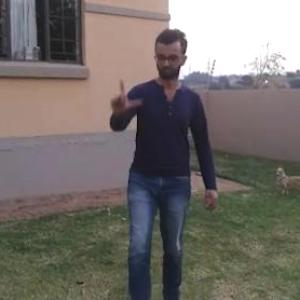land_hand: (103, 72, 144, 118)
